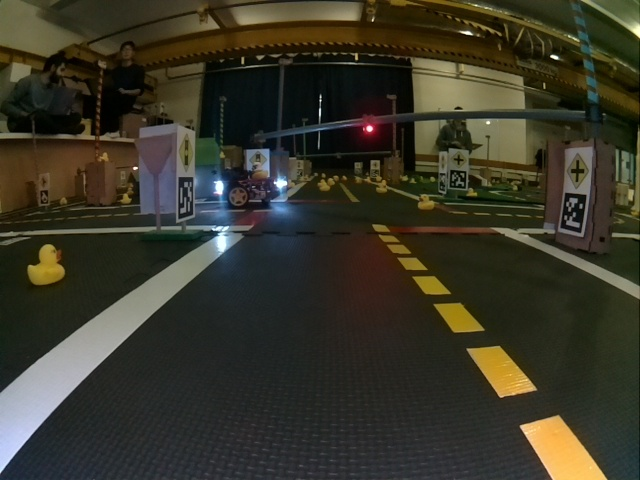Duckie: (27, 245, 66, 285), (251, 163, 269, 180), (418, 194, 434, 210), (121, 194, 131, 204), (376, 184, 386, 193), (321, 183, 329, 192)
Duckiebot: (214, 168, 284, 206)
Intersection sign: (566, 152, 589, 188), (451, 151, 467, 169)
QR code: (559, 193, 588, 235), (176, 178, 194, 222), (449, 170, 467, 189), (438, 173, 447, 193)
Signal sign: (178, 133, 195, 170), (247, 150, 268, 165)
Traffic light: (363, 114, 374, 133)
